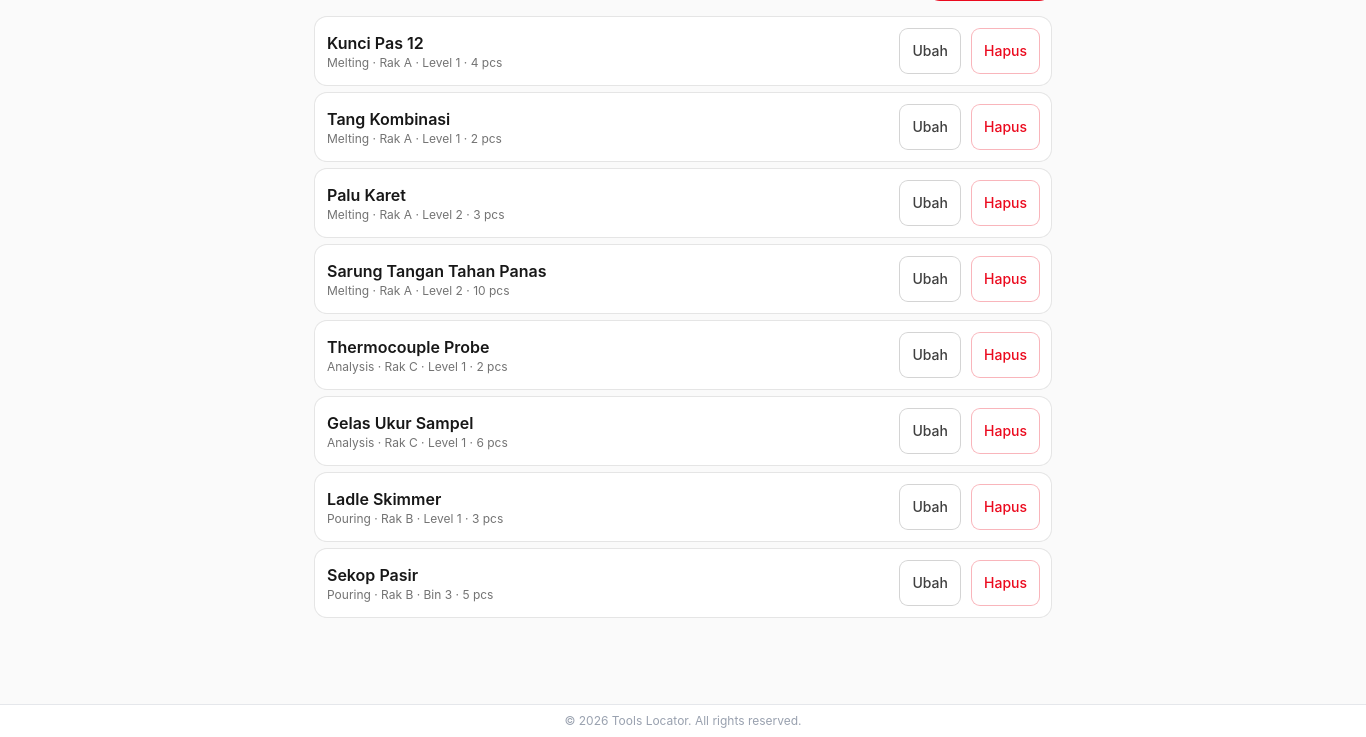
Test: menghapus tools setelah dikonfirmasi
(page scrolled)
Expected: the text "Sekop Pasir" is shown, [327,565,418,585]
Click the button "Hapus" in the row of "Sekop Pasir" at (1006, 583), box [972,561,1039,605]
(page scrolled)
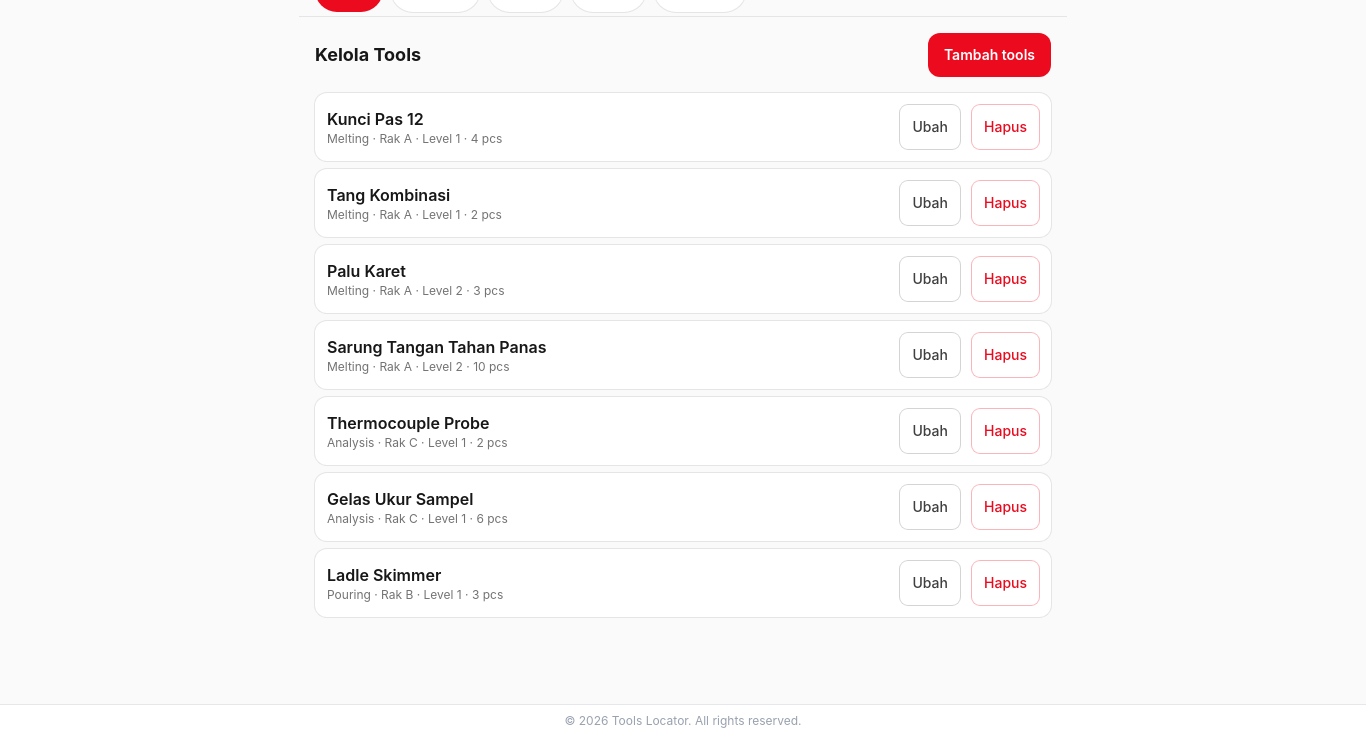
Expected: the text "Sekop Pasir" is gone
